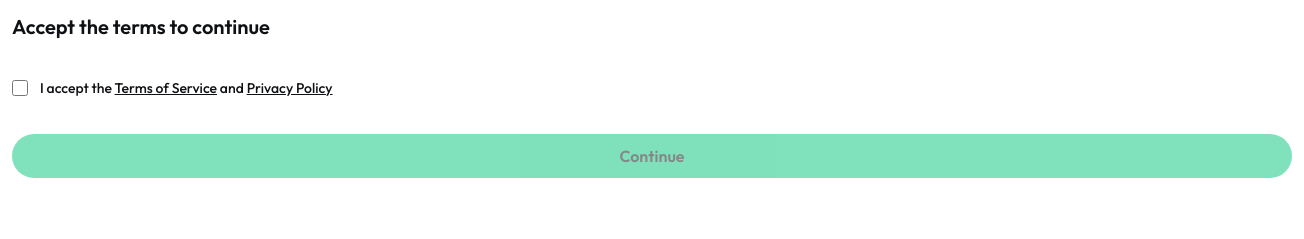
Scenario: ConsentForm › displays inline error when recordConsent fails
Click the checkbox labelled "I accept the Terms of Service and Privacy Policy": (20, 88) 12,80 -> 28,96
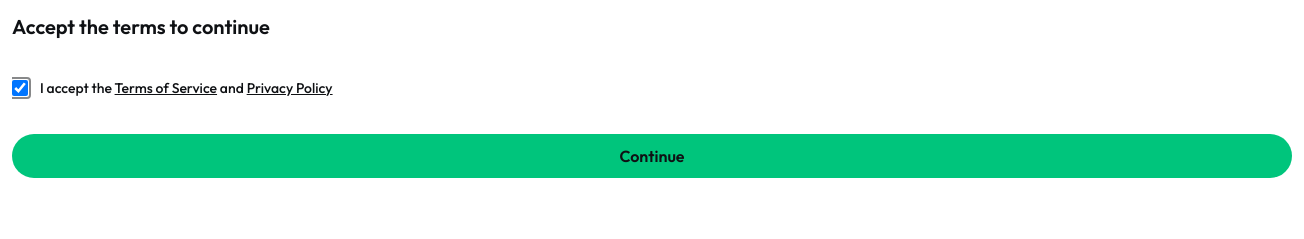
Click the button "Continue": (652, 156) 12,134 -> 1292,178
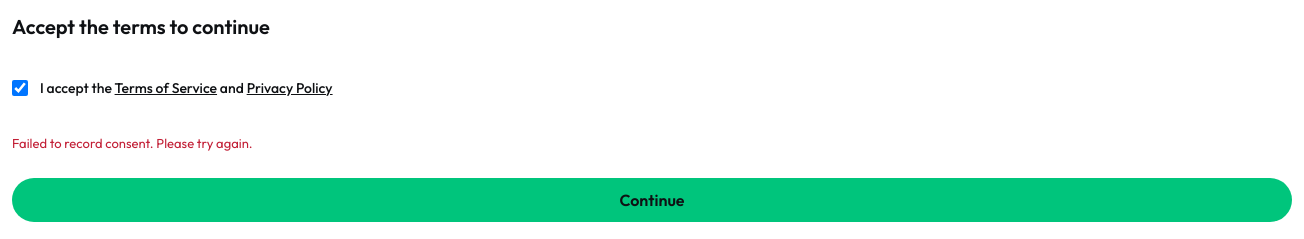
Now the message reads "Failed to record consent. Please try again.", box 12,135 -> 253,151
